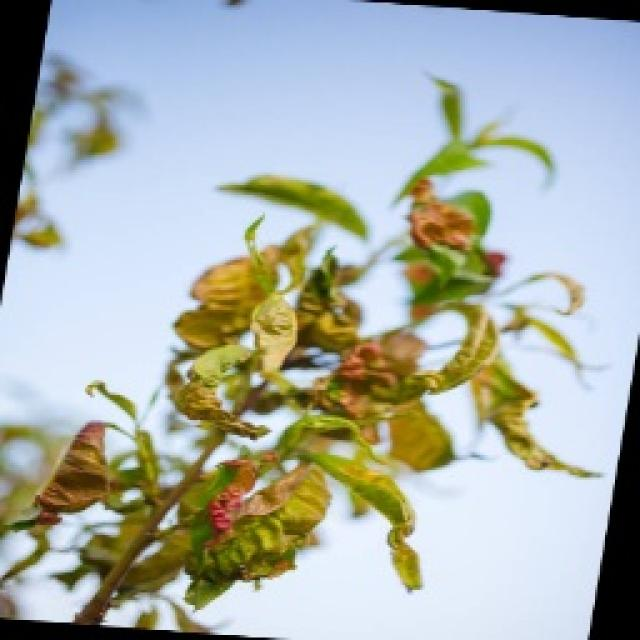peach_leaf_curl: (0, 311, 346, 632), (30, 418, 115, 518)
